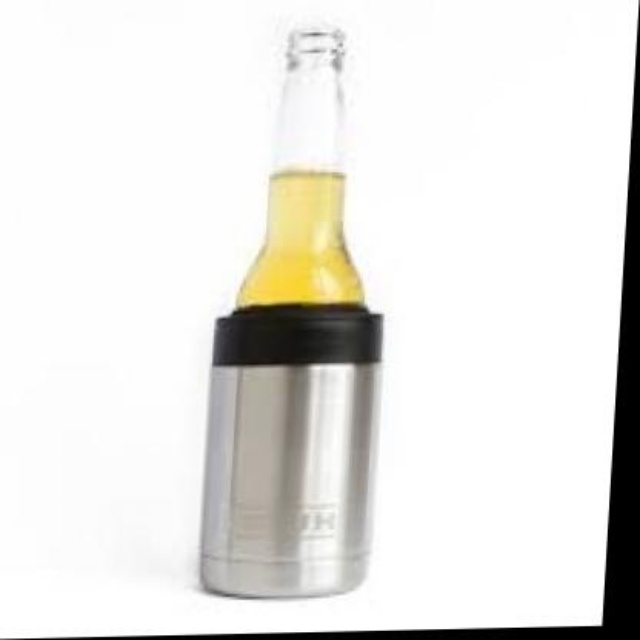trash: (202, 26, 382, 595)
